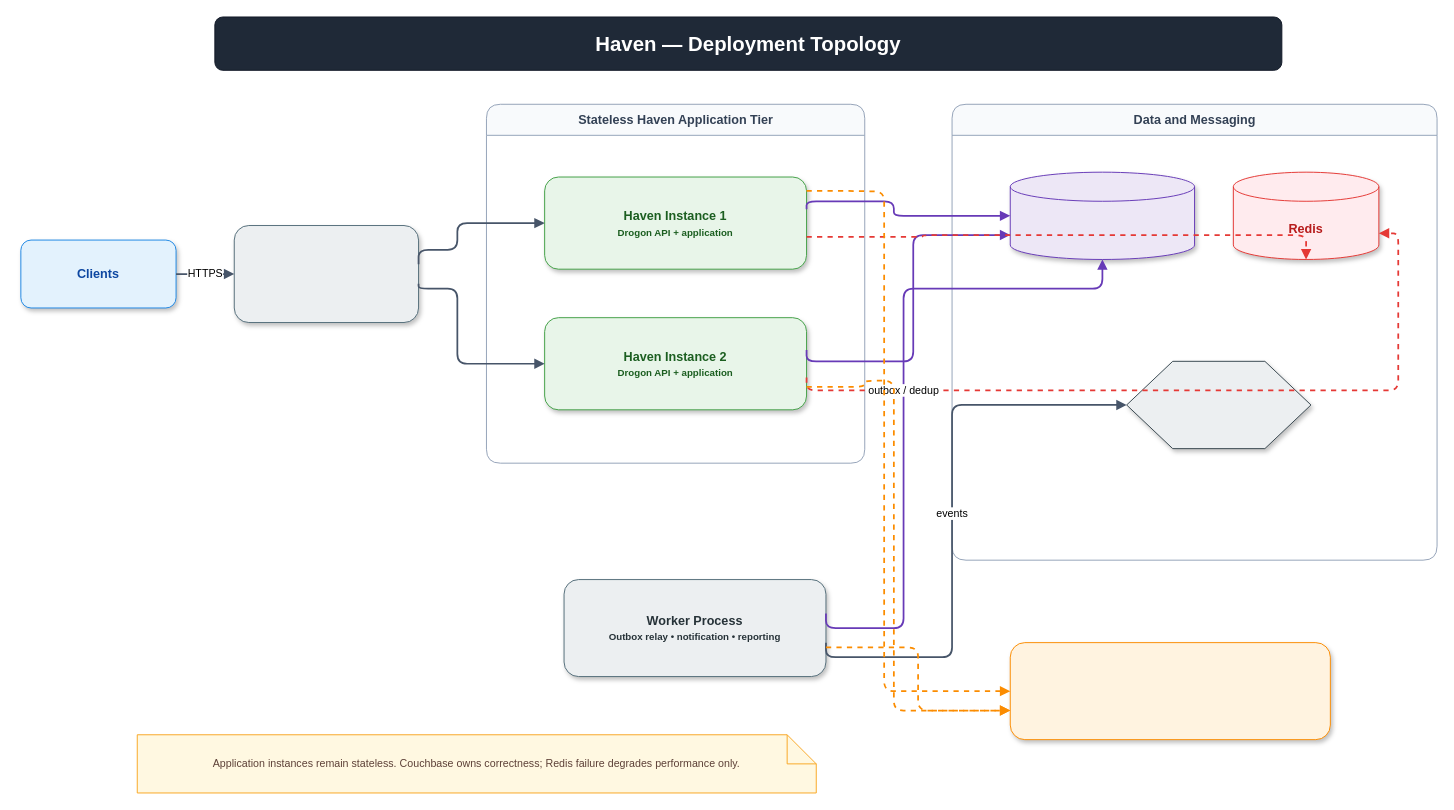
Some shapes in this 1454 by 810 pixel diagram are drawn without their labels. Here are the shapes that lost their labels. From the top down, the centre of each, then its label:
At [1102,216]: "Couchbase Cluster".
At [326,275]: "Load Balancer or Ingress".
At [1219,405]: "Kafka Cluster".
At [1170,692]: "Observability Stack Metrics • logs • traces • alerts".
